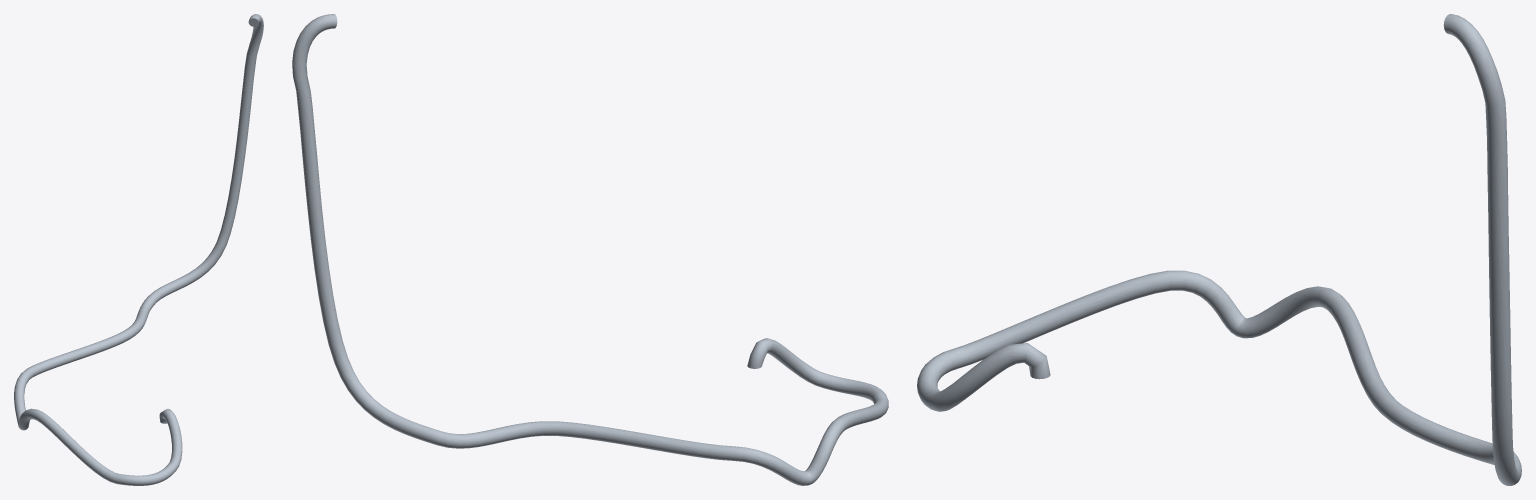
Rendered from SM_Cable_2_Splines_25.fbx.
The picture shows the model from 3 angles, left to right: view 1: azimuth 30°, elevation 25°; view 2: azimuth 150°, elevation 25°; view 3: azimuth 270°, elevation 25°; orthographic projection. The views are drawn at different scales.
Visible parts, largest first — view 1: SM_Cable_2_Splines_25; view 2: SM_Cable_2_Splines_25; view 3: SM_Cable_2_Splines_25.
Boxes of the visible parts, x1,y1,x2,y2 form: SM_Cable_2_Splines_25: (14, 14, 263, 485); SM_Cable_2_Splines_25: (292, 14, 888, 485); SM_Cable_2_Splines_25: (917, 14, 1521, 485).
Size of the model in its own units: 307 by 266 by 294.
